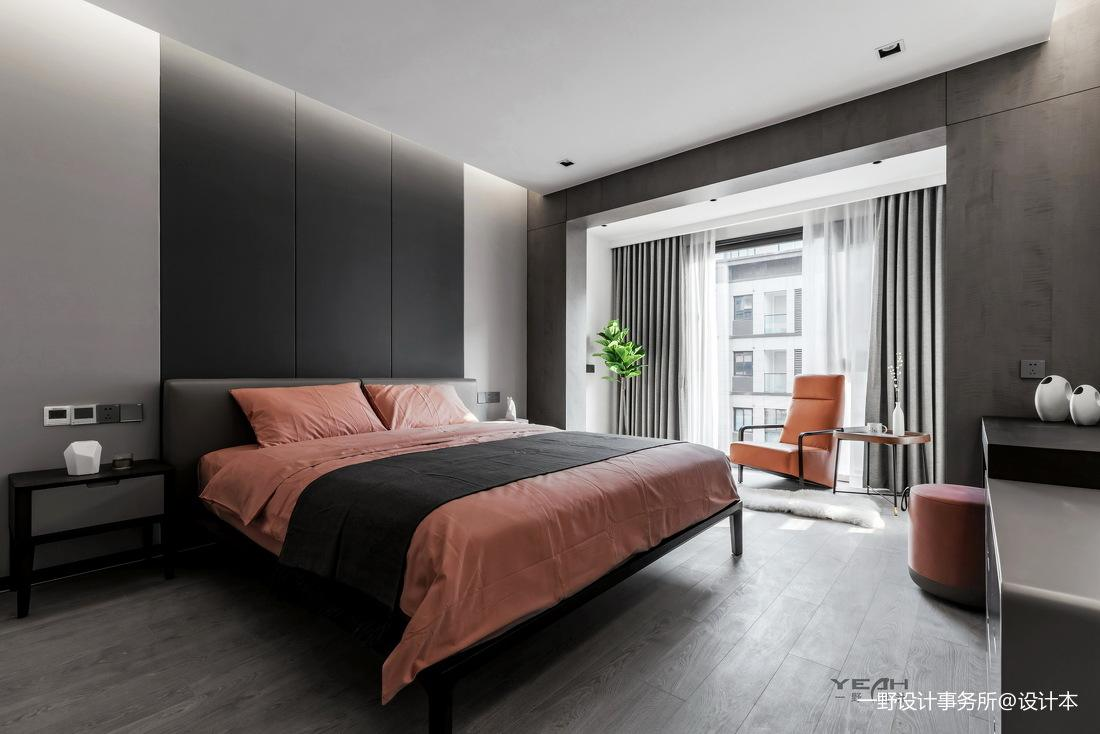床: (198, 411, 712, 674)
枕头: (220, 377, 498, 452)
灯: (870, 41, 902, 63), (553, 154, 575, 174)
